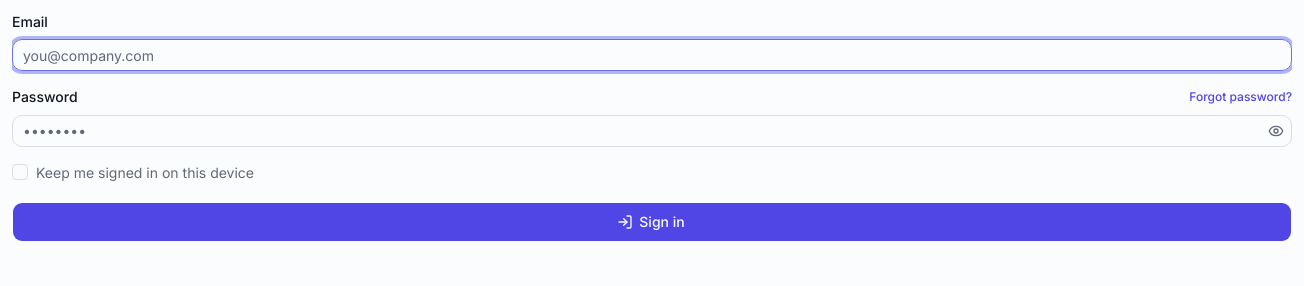
Test case: <LoginForm> › maps 422 field details onto the matching inputs
Type "jane@example.com" into the field labelled "Email". click: (652, 55)
box: left=12, top=39, right=1292, bottom=71
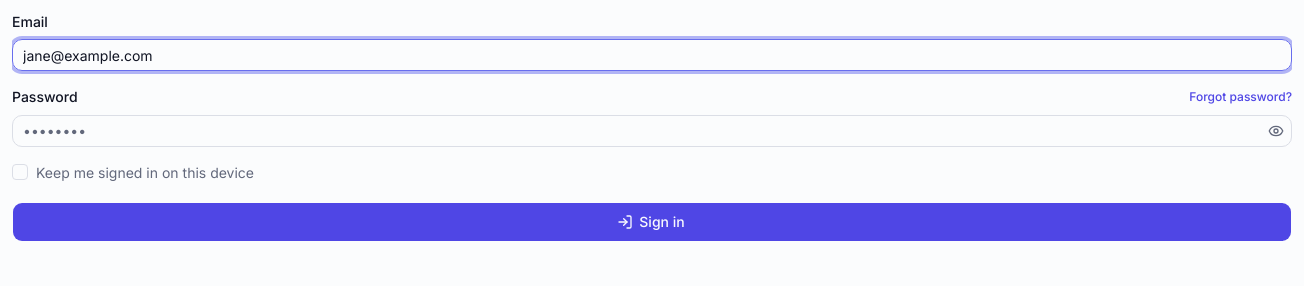
Type "whatever" into the password field labelled "Password". click: (638, 130)
box: left=13, top=114, right=1264, bottom=146
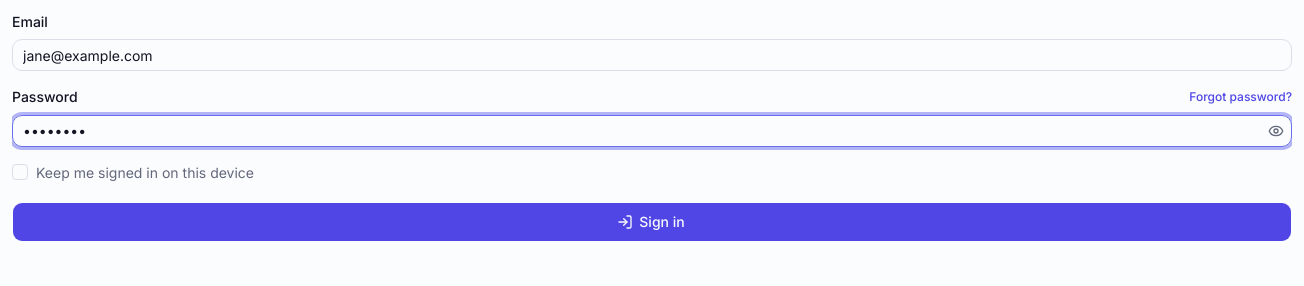
Click the button "Sign in". click: (652, 222)
box: left=12, top=202, right=1292, bottom=242
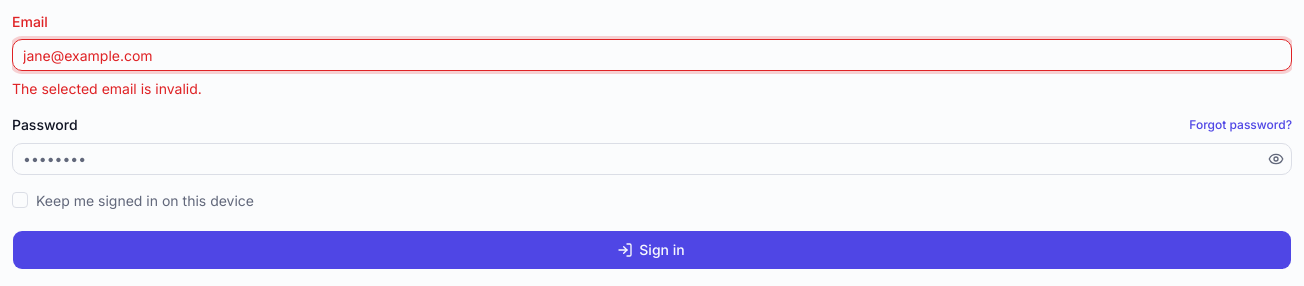
Check: the text "The selected email is invalid." is shown, box left=12, top=80, right=202, bottom=97
